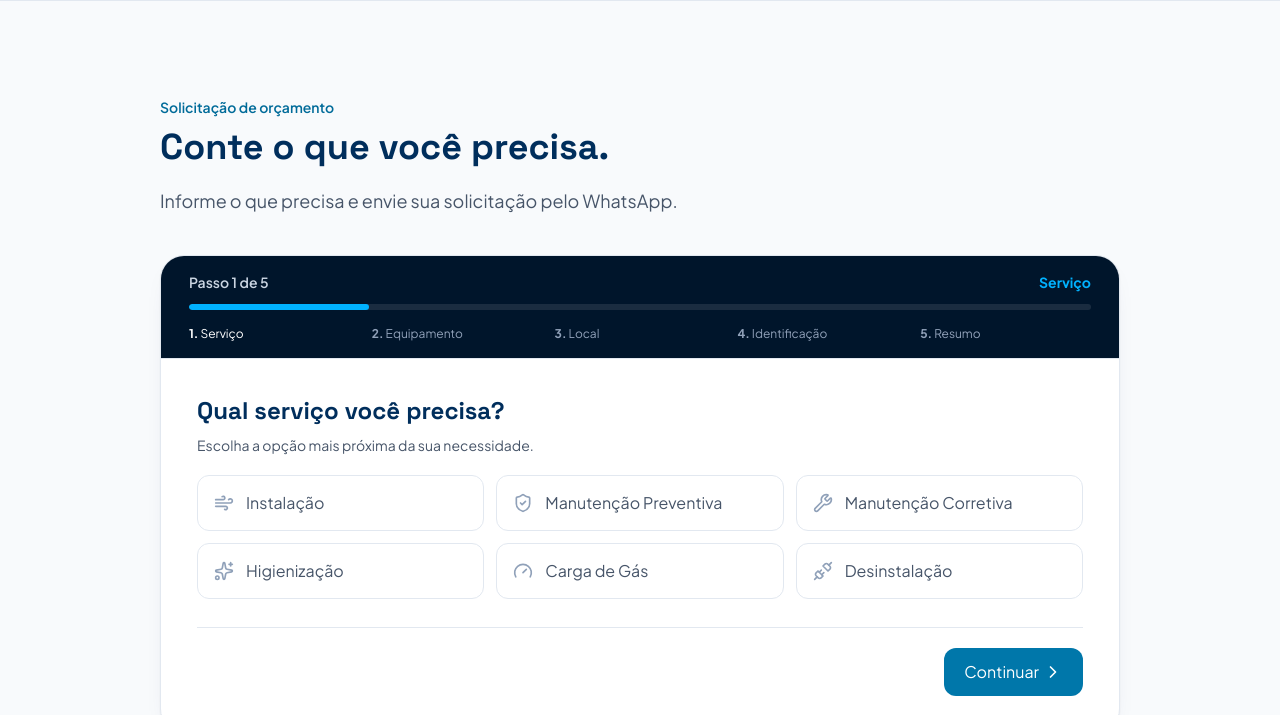
it: BudgetSimulator Component › mostra validação objetiva quando o serviço não foi informado
The image size is (1280, 715).
Click the button "Continuar" at x=1014, y=672, box [944, 648, 1083, 696]
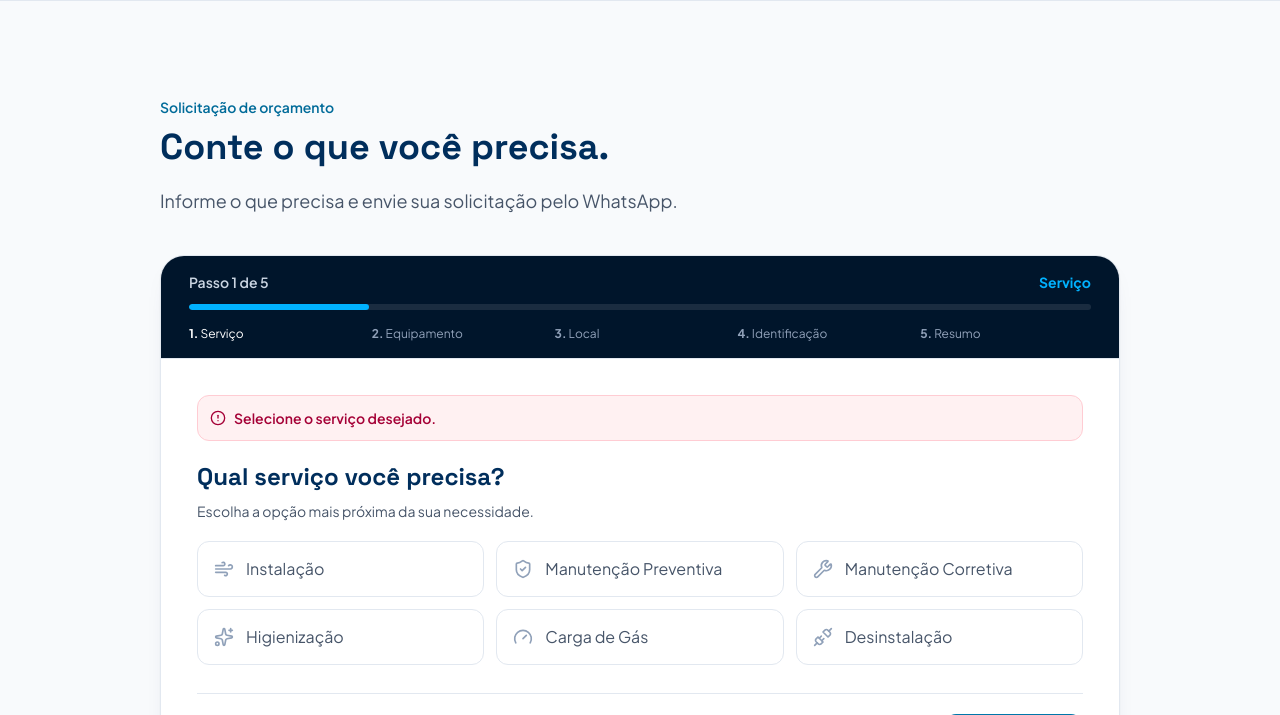
Result: the message reads "Selecione o serviço desejado." at [234, 409, 436, 427]
